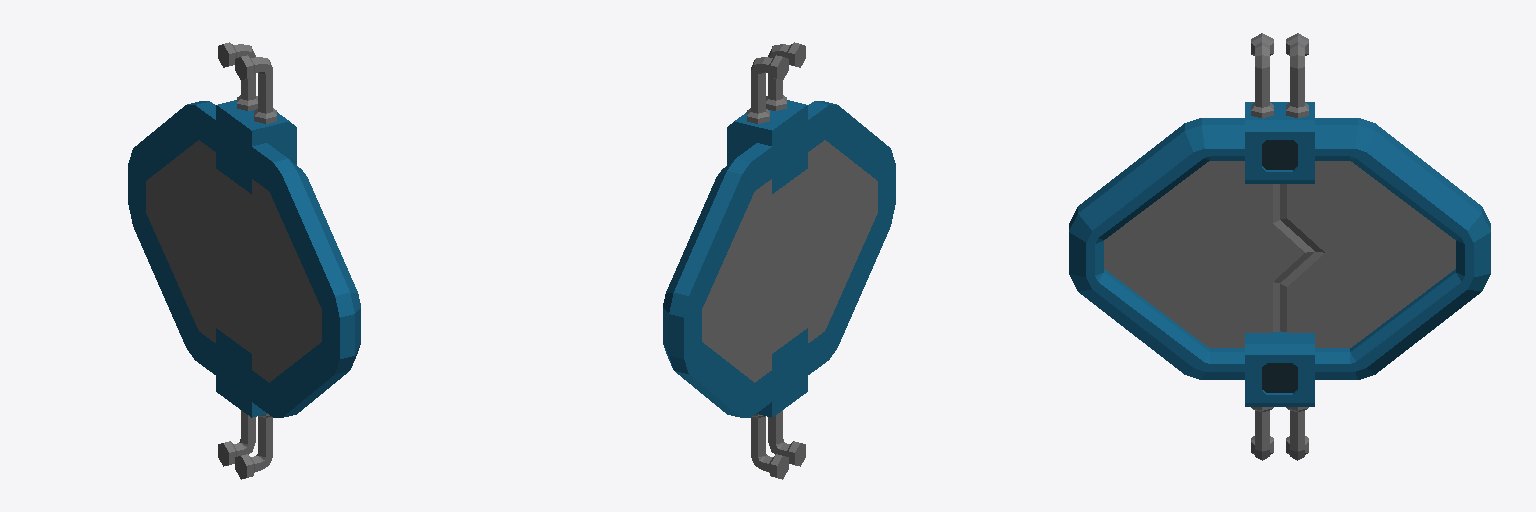
Rendered from Spacestation_Miscellaneous_Bay_Door.obj.
The picture shows the model from 3 angles: view 1: azimuth 30°, elevation 25°; view 2: azimuth 150°, elevation 25°; view 3: azimuth 270°, elevation 25°; orthographic projection.
Visible parts, largest first — view 1: object11, object7, object10, object2, object9, object8, object6, object3, object5; view 2: object11, object7, object10, object2, object8, object3, object5, object9, object6; view 3: object11, object7, object10, object8, object2, object3, object9, object4, object1, object5, object6.
Part boxes in pixels (left/top/right/bottom): object11: left=128, top=101, right=360, bottom=417; object7: left=216, top=179, right=321, bottom=382; object10: left=146, top=140, right=233, bottom=342; object2: left=216, top=100, right=296, bottom=193; object9: left=235, top=55, right=276, bottom=123; object8: left=216, top=328, right=267, bottom=417; object6: left=235, top=414, right=272, bottom=479; object3: left=218, top=42, right=257, bottom=110; object5: left=218, top=410, right=255, bottom=466; object11: left=663, top=101, right=895, bottom=417; object7: left=773, top=140, right=877, bottom=342; object10: left=702, top=179, right=789, bottom=382; object2: left=727, top=100, right=807, bottom=193; object8: left=756, top=328, right=807, bottom=417; object3: left=747, top=55, right=788, bottom=123; object5: left=751, top=414, right=788, bottom=479; object9: left=766, top=42, right=805, bottom=110; object6: left=768, top=410, right=805, bottom=466; object11: left=1069, top=118, right=1490, bottom=379; object7: left=1104, top=161, right=1314, bottom=347; object10: left=1280, top=161, right=1455, bottom=347; object8: left=1245, top=331, right=1314, bottom=406; object2: left=1245, top=102, right=1314, bottom=183; object3: left=1286, top=33, right=1308, bottom=117; object9: left=1251, top=33, right=1273, bottom=117; object4: left=1262, top=140, right=1297, bottom=169; object1: left=1262, top=363, right=1297, bottom=392; object5: left=1286, top=407, right=1308, bottom=460; object6: left=1251, top=407, right=1273, bottom=460.
Bounding box in the file's own units: 0.1563 × 1.32 × 1.2.